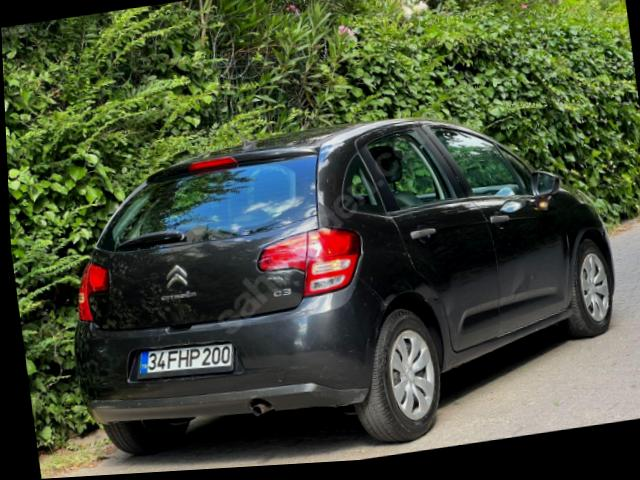plaka: (137, 343, 233, 378)
